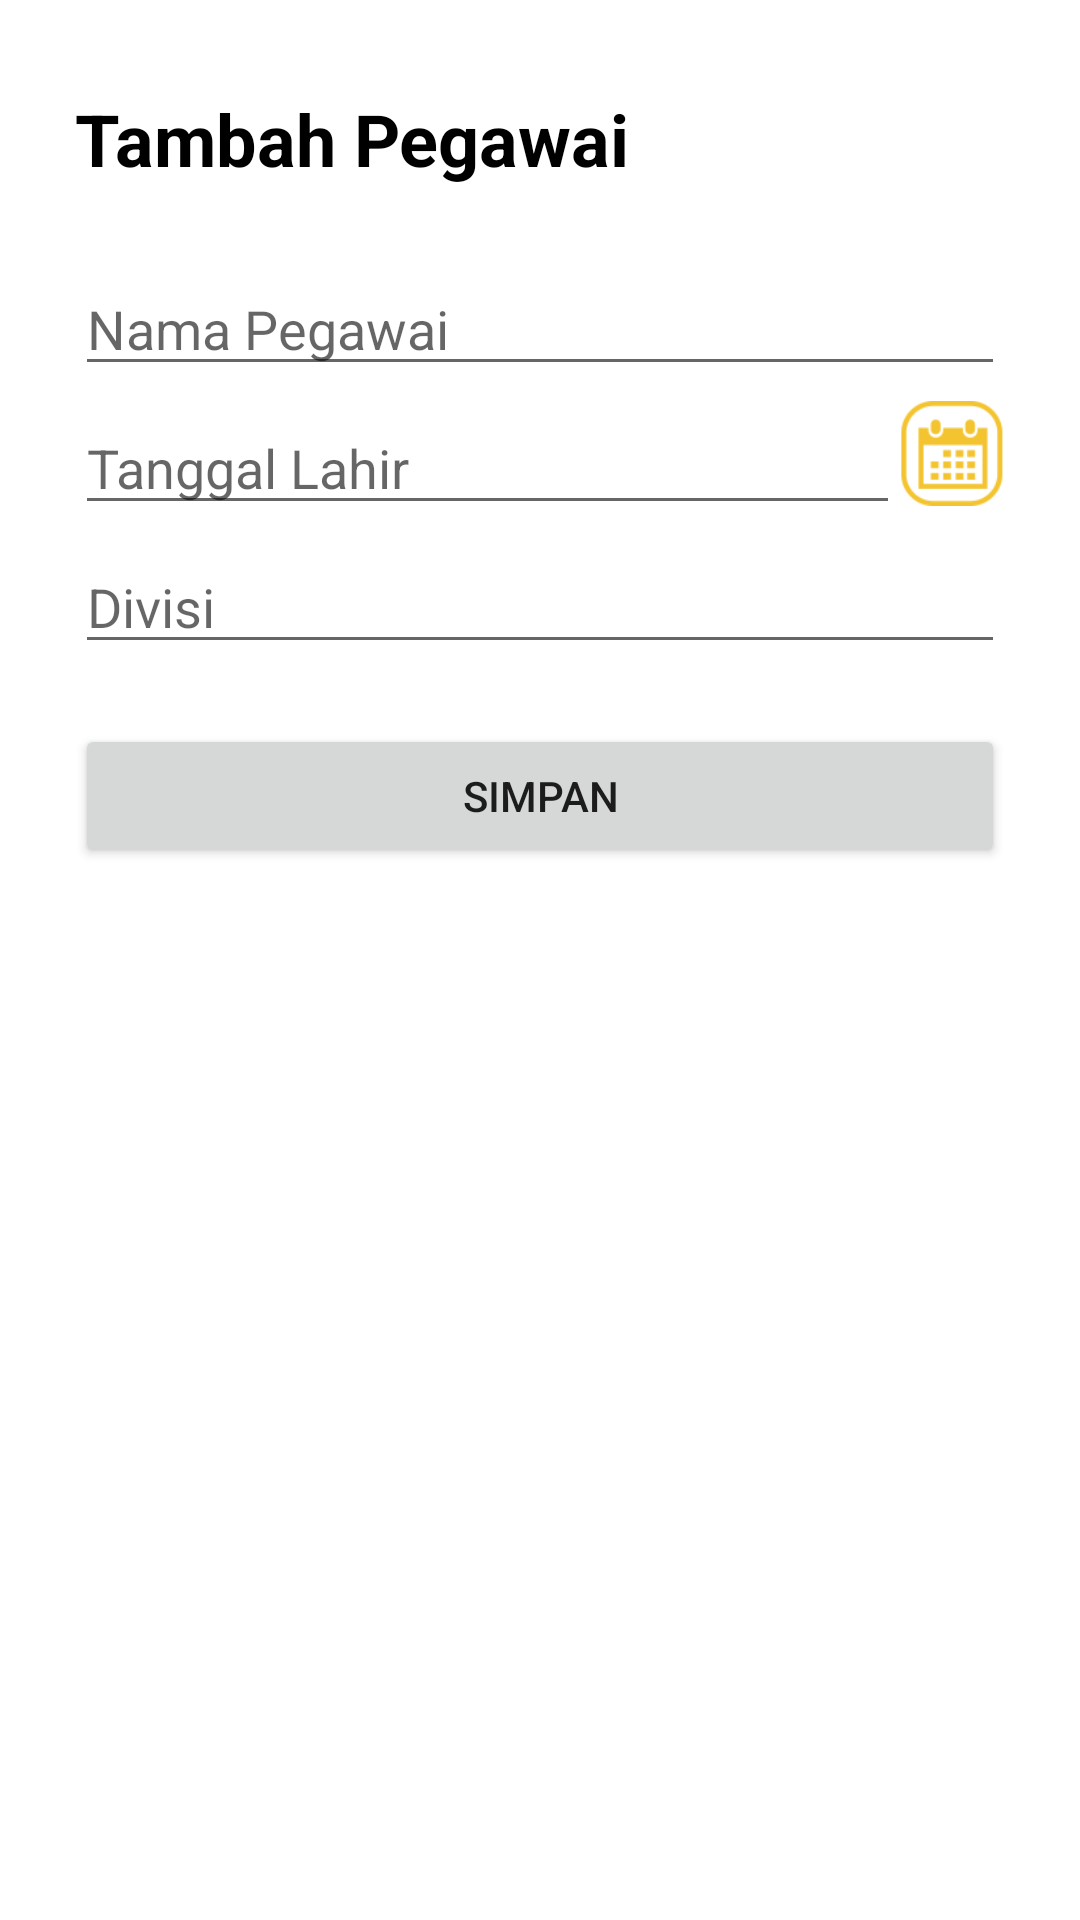

Locate icon controls on the screen. Image size 1080*1920, boxes as (x1, y1, x2, y2).
calender: (901, 401, 1003, 506)
